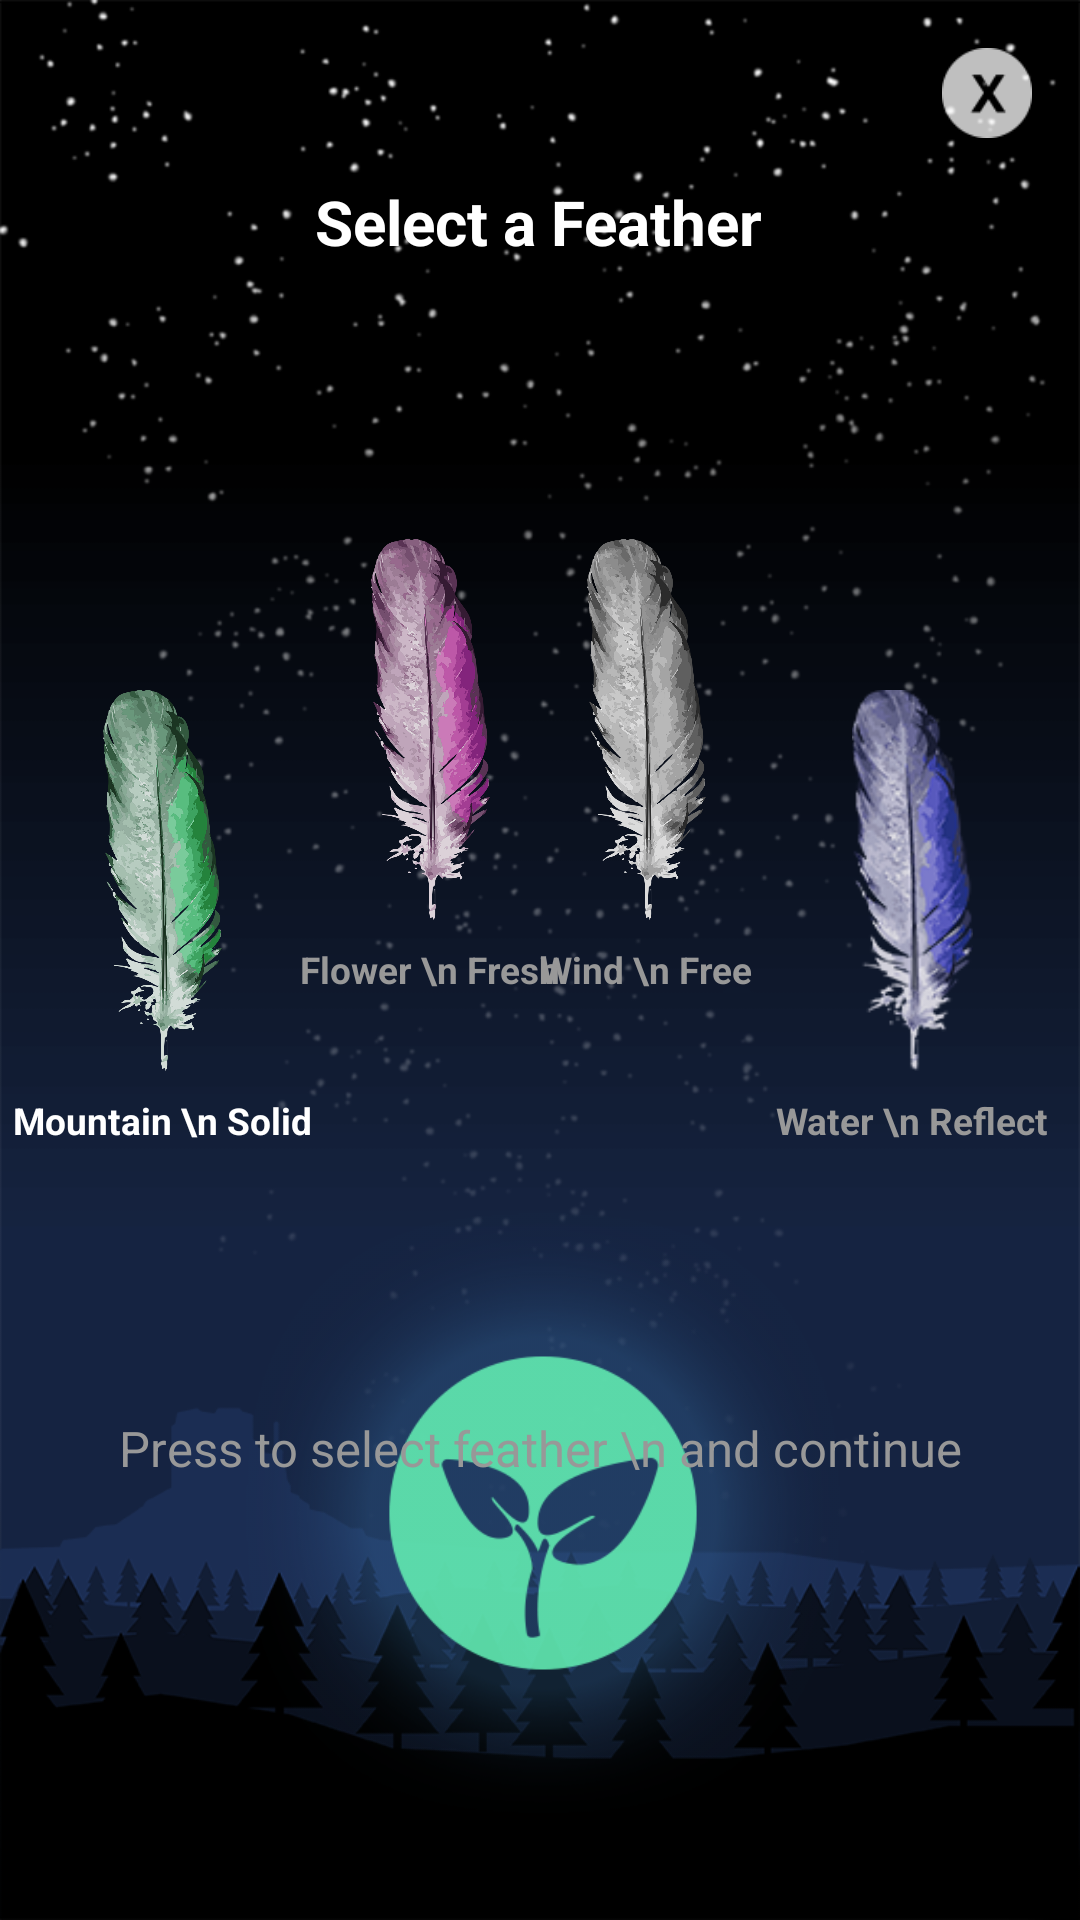

Named icons in this screenshot (1080*1920) and their centers, (x,y):
exit breathing: (987,93)
